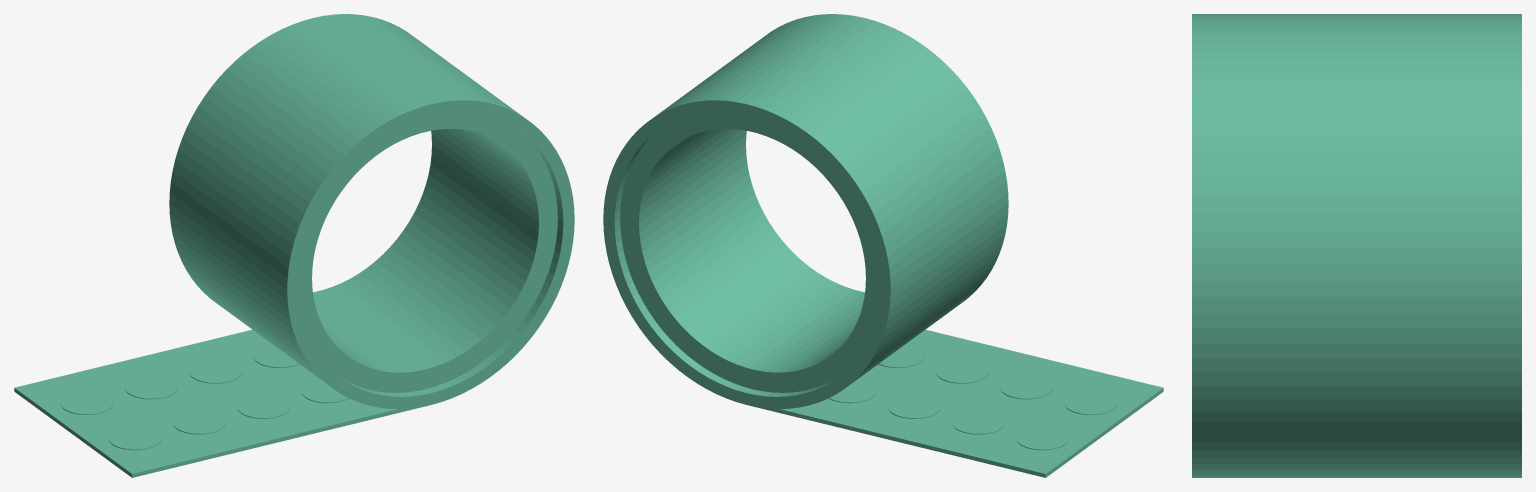
3 views of the same model, side by side, from view 1: azimuth 30°, elevation 25°; view 2: azimuth 150°, elevation 25°; view 3: azimuth 270°, elevation 25° (orthographic). The views are drawn at different scales.
Visible parts, largest first — view 1: 10246276; view 2: 10246276; view 3: 10246276.
Part boxes in pixels (x1,y1,x2,y2): 10246276: (14, 14, 574, 477); 10246276: (603, 14, 1163, 477); 10246276: (1192, 14, 1521, 477).
Size of the model in its own units: 1 by 0.6496 by 0.4615.
